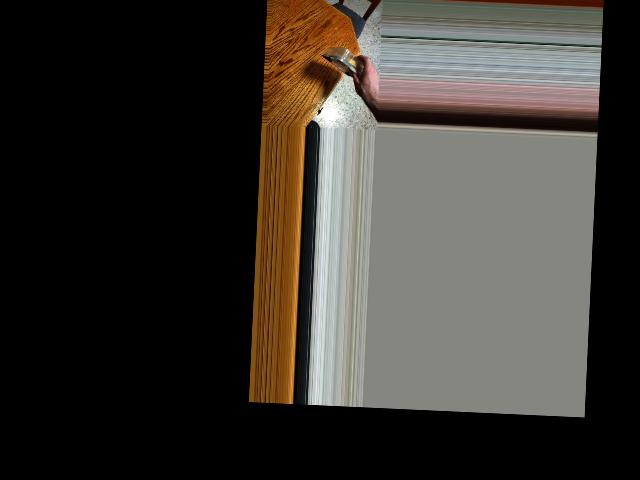cheese: (329, 34, 375, 94)
